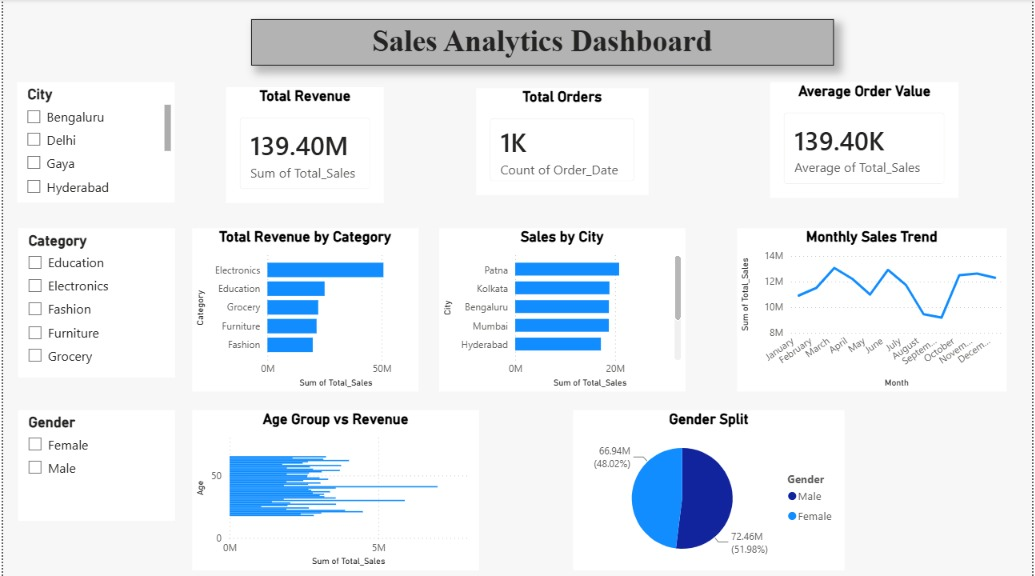

What the dashboard file says about the page in this screenshot:
{"tool":"powerbi","page":{"name":"Page 1","canvas":[1280,720],"ordinal":0},"visuals":[{"type":"cardVisual","title":"Total Revenue","fields":{"Data":["Sum(cleaned_sales_dataset.Total_Sales)"]},"box":[277.2,109.8,196.2,144.1],"z":0},{"type":"clusteredBarChart","title":" Total Revenue by Category","fields":{"Category":["cleaned_sales_dataset.Category"],"Y":["Sum(cleaned_sales_dataset.Total_Sales)"]},"box":[234.6,285.4,281.3,203.1],"z":1},{"type":"lineChart","title":" Monthly Sales Trend","fields":{"Y":["Sum(cleaned_sales_dataset.Total_Sales)"],"Category":["cleaned_sales_dataset.Order_Date.Variation.Date Hierarchy.Month"]},"box":[912.5,285.4,334.8,203.1],"z":2},{"type":"clusteredBarChart","title":"Sales by City","fields":{"Category":["cleaned_sales_dataset.City"],"Y":["Sum(cleaned_sales_dataset.Total_Sales)"]},"box":[542,285.4,306,203.1],"z":3},{"type":"pieChart","title":"Gender Split","fields":{"Category":["cleaned_sales_dataset.Gender"],"Y":["Sum(cleaned_sales_dataset.Total_Sales)"]},"box":[709.4,511.8,337.6,199],"z":4},{"type":"clusteredBarChart","title":" Age Group vs Revenue","fields":{"Category":["cleaned_sales_dataset.Age"],"Y":["Sum(cleaned_sales_dataset.Total_Sales)"]},"box":[234.6,511.8,356.8,199],"z":5},{"type":"cardVisual","title":" Total Orders","fields":{"Data":["CountNonNull(cleaned_sales_dataset.Order_Date)"]},"box":[588.7,111.1,214.1,133.1],"z":6},{"type":"cardVisual","title":" Average Order Value","fields":{"Data":["Avg(cleaned_sales_dataset.Total_Sales)"]},"box":[953.7,102.9,234.6,144.1],"z":8},{"type":"textbox","box":[308.7,24.7,724.5,57.6],"z":9},{"type":"slicer","fields":{"Values":["cleaned_sales_dataset.City"]},"box":[17.8,102.9,196.2,149.6],"z":10},{"type":"slicer","fields":{"Values":["cleaned_sales_dataset.Category"]},"box":[19.2,285.4,194.9,185.2],"z":11},{"type":"slicer","fields":{"Values":["cleaned_sales_dataset.Gender"]},"box":[19.2,511.8,194.9,137.2],"z":12}]}

Visuals, with their boxes in screenshot pixels (x1, y1, x2, y2), scaled from the page's 1280x720 canvas onto the 1035x576 screenshot:
"Total Revenue" cardVisual: bbox=(224, 88, 383, 203)
" Total Revenue by Category" clusteredBarChart: bbox=(190, 228, 417, 391)
" Monthly Sales Trend" lineChart: bbox=(738, 228, 1009, 391)
"Sales by City" clusteredBarChart: bbox=(438, 228, 686, 391)
"Gender Split" pieChart: bbox=(574, 409, 847, 569)
" Age Group vs Revenue" clusteredBarChart: bbox=(190, 409, 478, 569)
" Total Orders" cardVisual: bbox=(476, 89, 649, 195)
" Average Order Value" cardVisual: bbox=(771, 82, 961, 198)
textbox: bbox=(250, 20, 835, 66)
slicer - cleaned_sales_dataset.City: bbox=(14, 82, 173, 202)
slicer - cleaned_sales_dataset.Category: bbox=(16, 228, 173, 376)
slicer - cleaned_sales_dataset.Gender: bbox=(16, 409, 173, 519)
